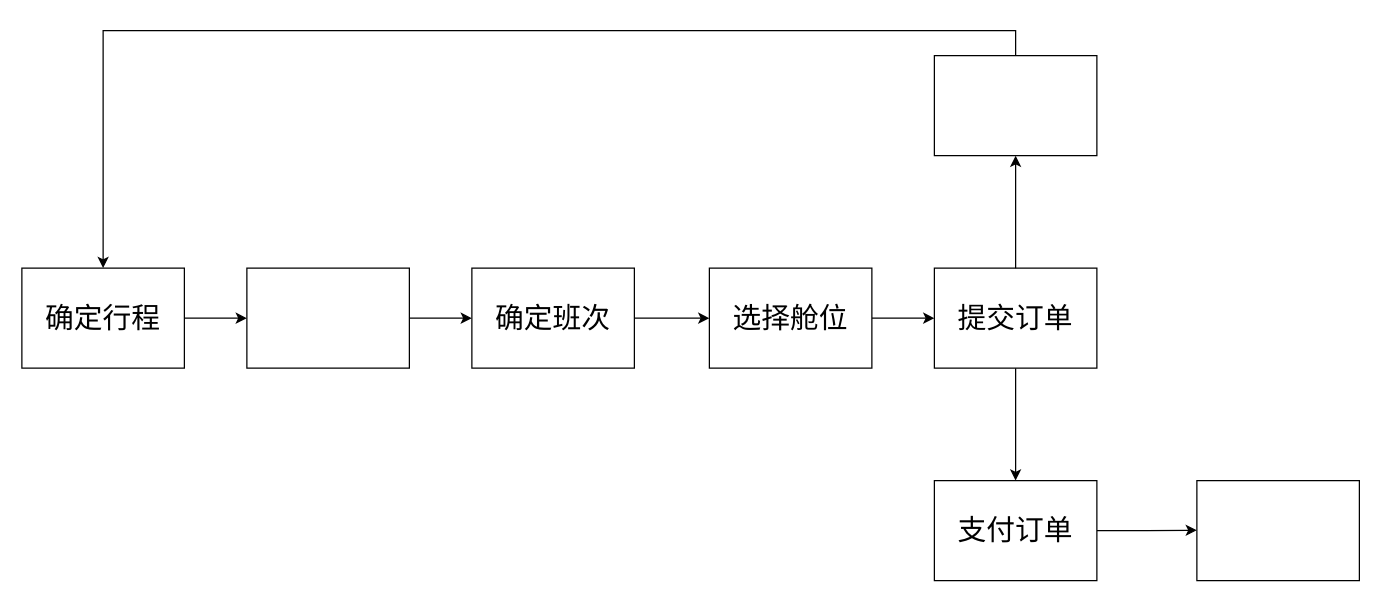
This 1381x603 diagram has some shape labels left out. The shapes that lost their labels are listed below. From the top down, each one's box as (x1, y1, x2, y2) in pixels, then its label:
(933, 54, 1097, 156): 取消订单
(246, 267, 409, 368): 查询机票
(1196, 479, 1359, 581): 买票成功
